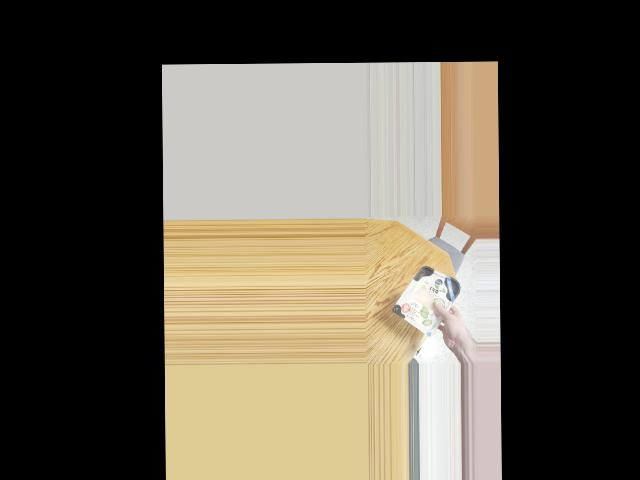cheese: (396, 268, 465, 325)
